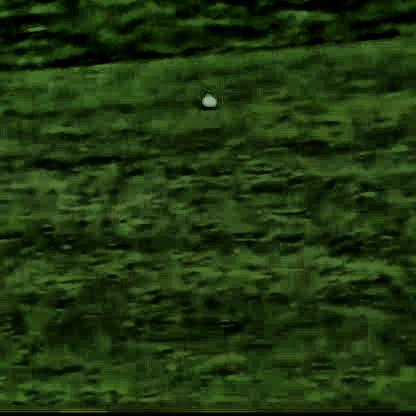golfball: (197, 92, 216, 108)
